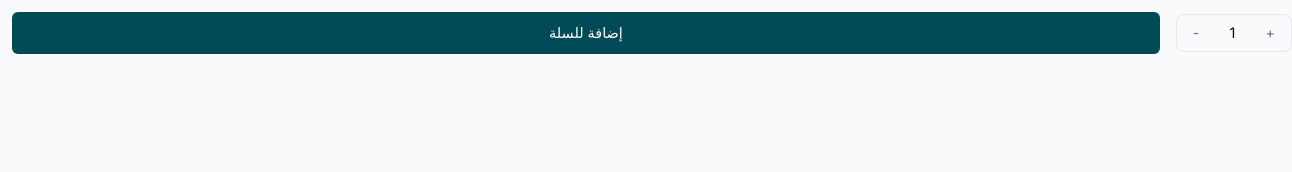
Test case: ProductCard › quantity controls increment
Click the button "+": (1270, 33) [1258,23,1283,43]
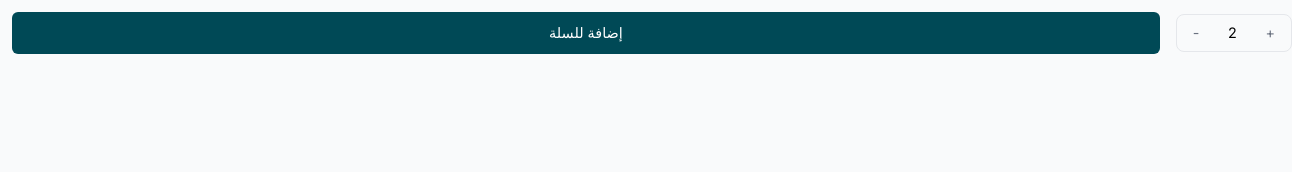
Result: the number field holds "2" at [1208,23,1258,43]
